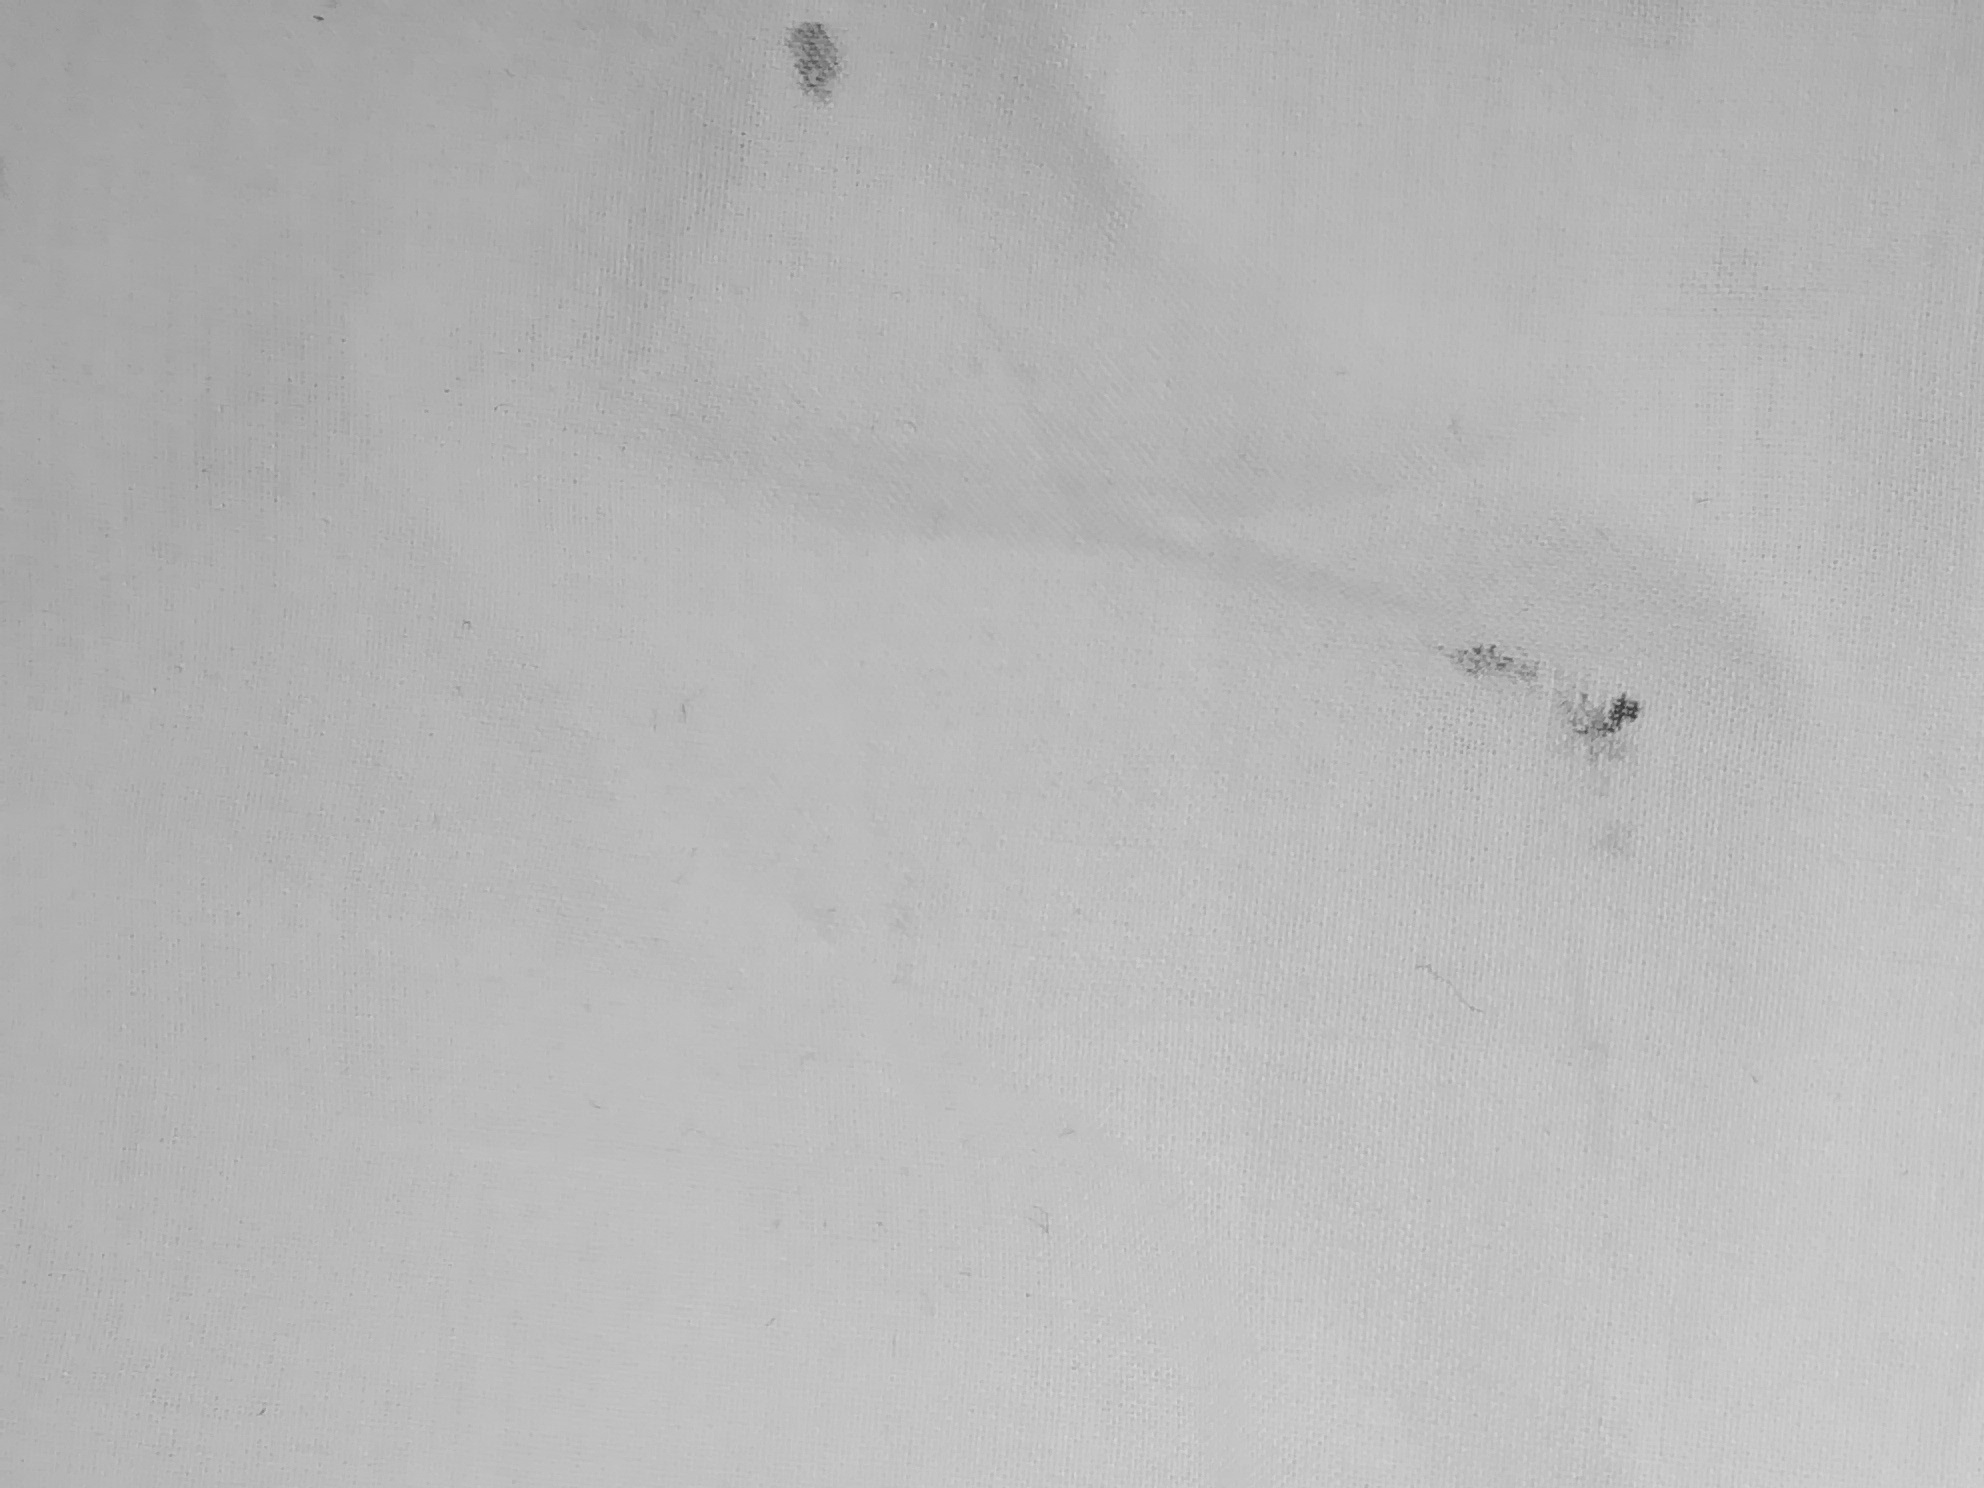Stain: (1336, 488, 1809, 905), (697, 13, 989, 131)
